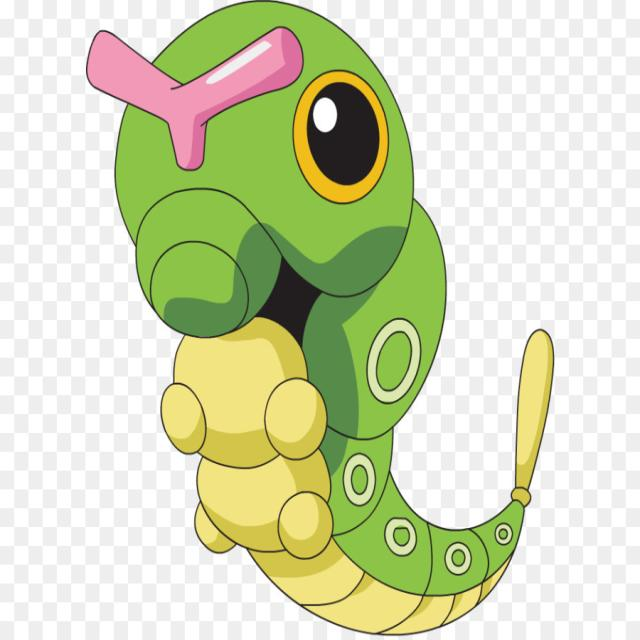Caterpie: (86, 10, 560, 625)
